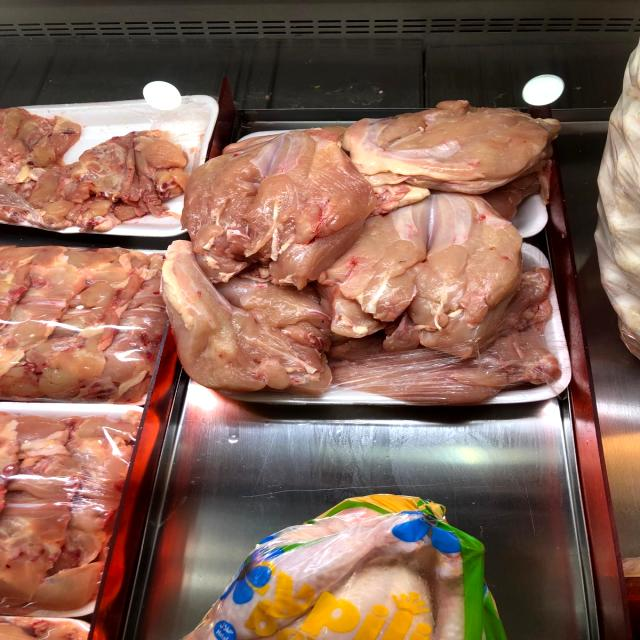chicken: (172, 105, 560, 398)
